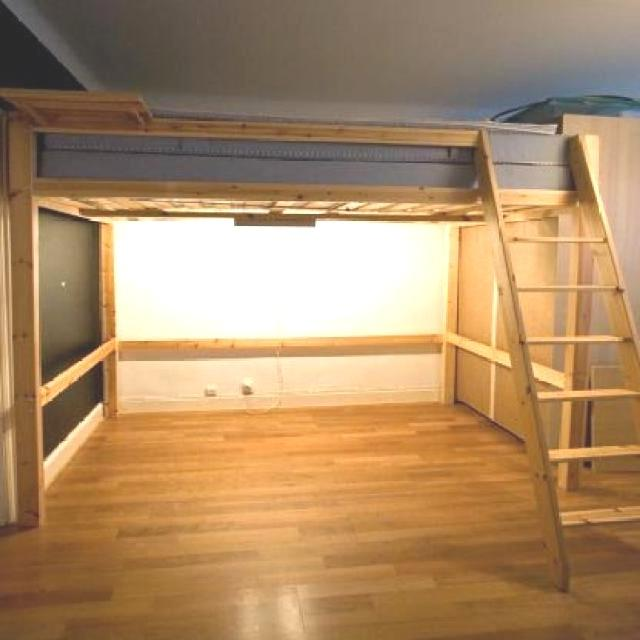stair: (508, 235, 640, 530)
